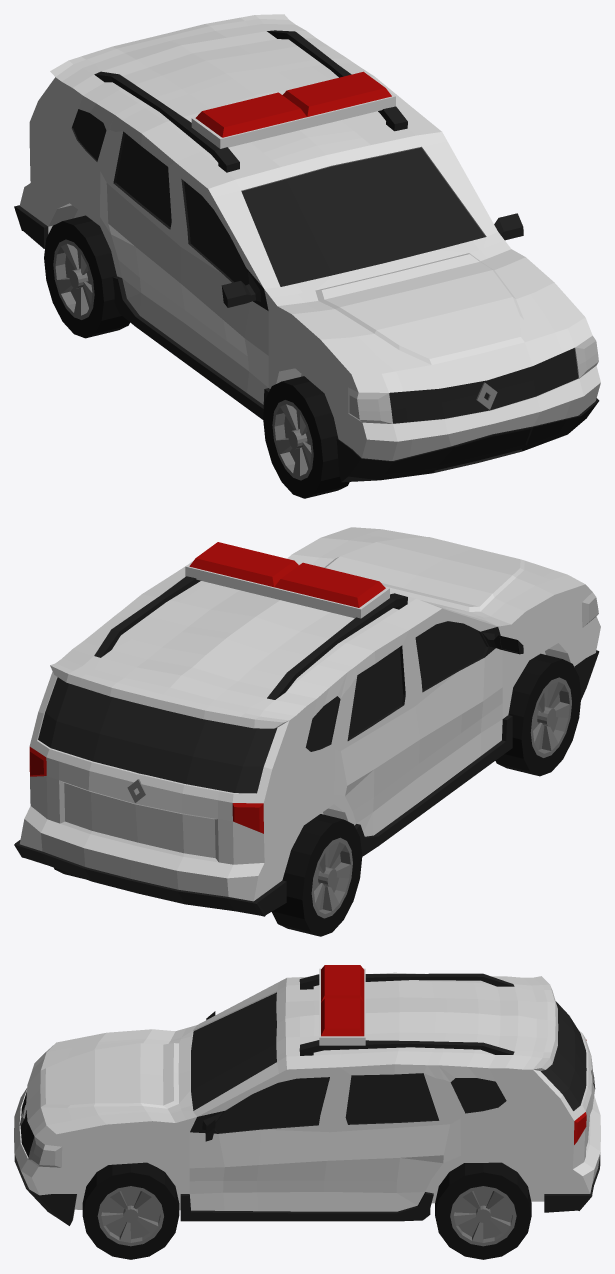
The model's file is Duster.fbx.
The picture shows the model from 3 angles, top to bottom: view 1: azimuth 30°, elevation 25°; view 2: azimuth 150°, elevation 25°; view 3: azimuth 270°, elevation 25°; orthographic projection. The views are drawn at different scales.
Parts seen in each view (by area): view 1: Car, Siren, Wheel FL, Wheel BL; view 2: Car, Siren, Wheel BL, Wheel FL; view 3: Car, Wheel BR, Wheel FR, Siren.
Boxes of the visible parts, bbox=[...] form: Car: bbox=[14, 14, 600, 482]; Siren: bbox=[191, 71, 395, 148]; Wheel FL: bbox=[263, 376, 349, 498]; Wheel BL: bbox=[44, 215, 129, 338]; Car: bbox=[14, 527, 600, 916]; Siren: bbox=[185, 542, 389, 618]; Wheel BL: bbox=[272, 814, 362, 936]; Wheel FL: bbox=[495, 653, 581, 776]; Car: bbox=[14, 972, 600, 1225]; Wheel BR: bbox=[435, 1162, 531, 1259]; Wheel FR: bbox=[82, 1162, 179, 1259]; Siren: bbox=[319, 965, 365, 1045].
Bounding box in the file's own units: 256 × 220 × 546.
